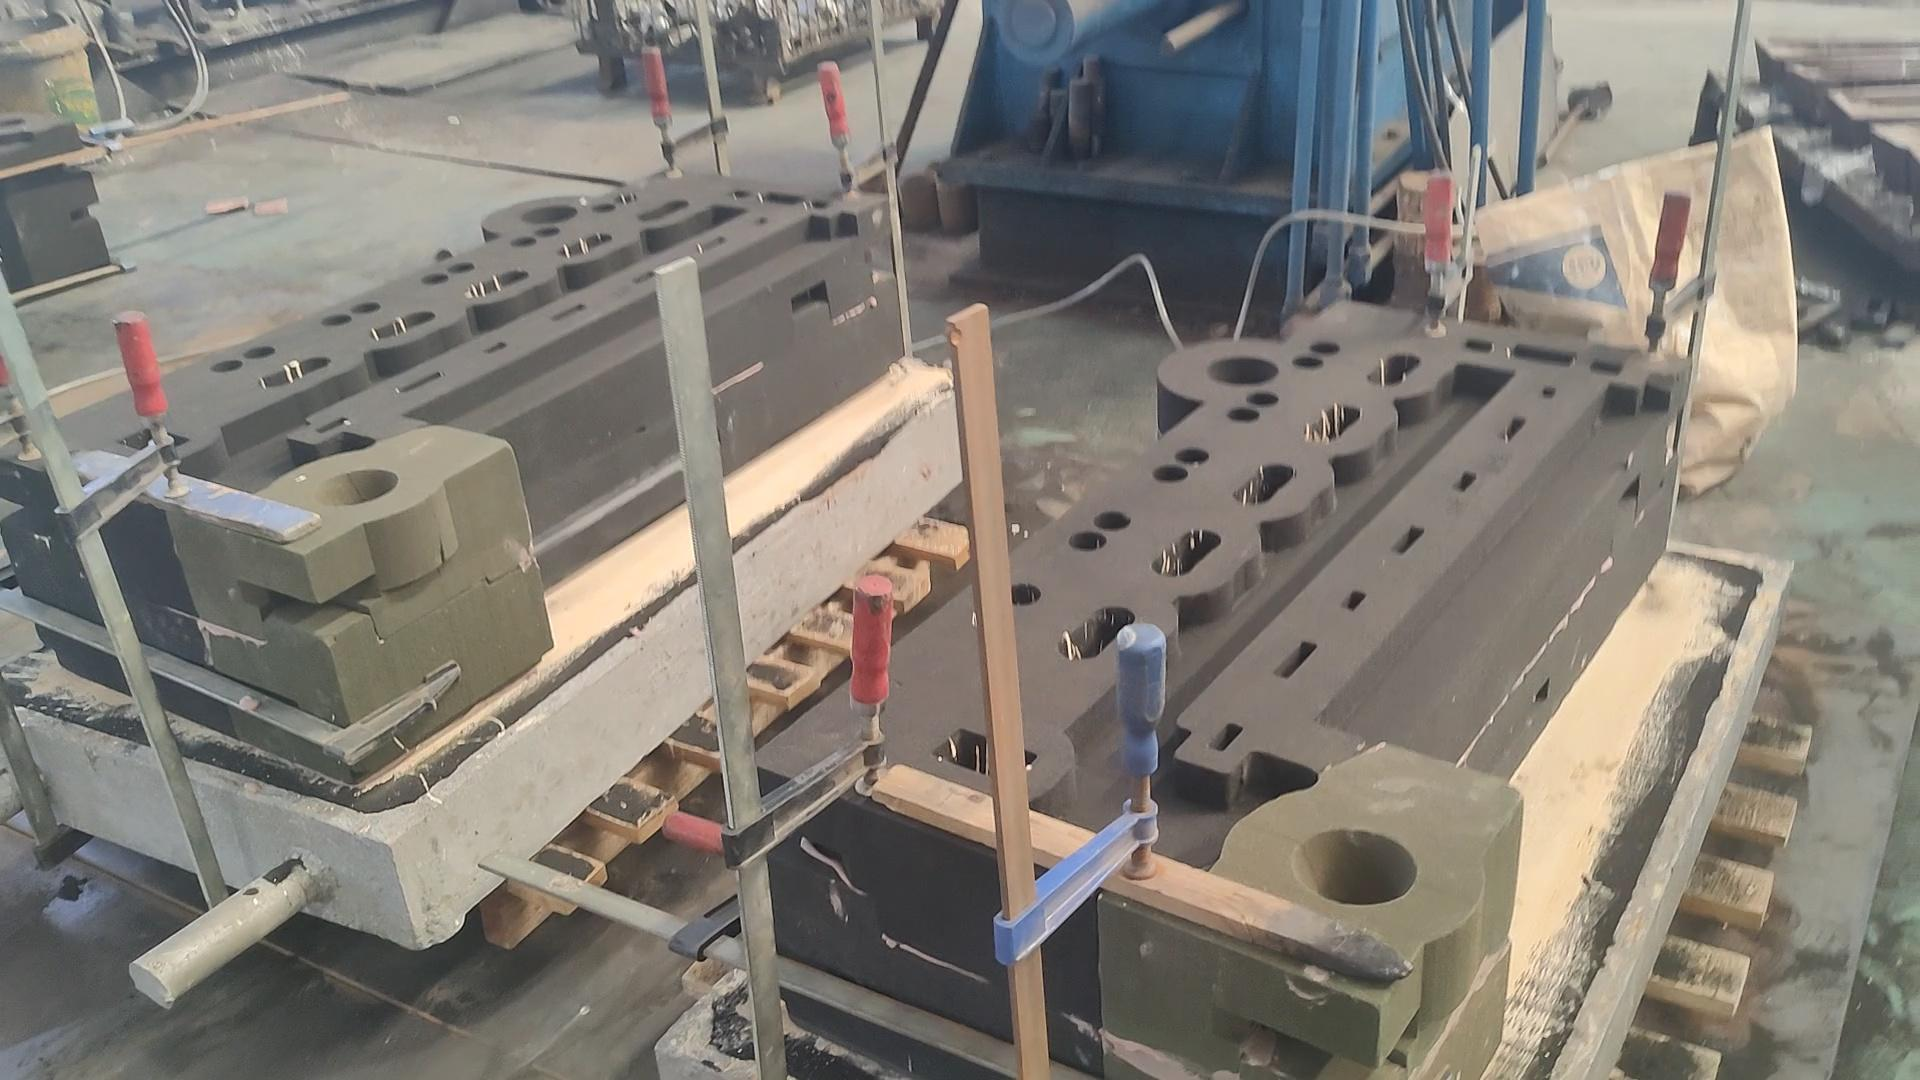pouring hole: (1291, 828, 1419, 907), (313, 467, 400, 506), (1204, 355, 1280, 386), (518, 204, 580, 224), (934, 174, 971, 189), (901, 173, 934, 186), (858, 173, 894, 185), (3, 113, 26, 131), (928, 161, 953, 174)
